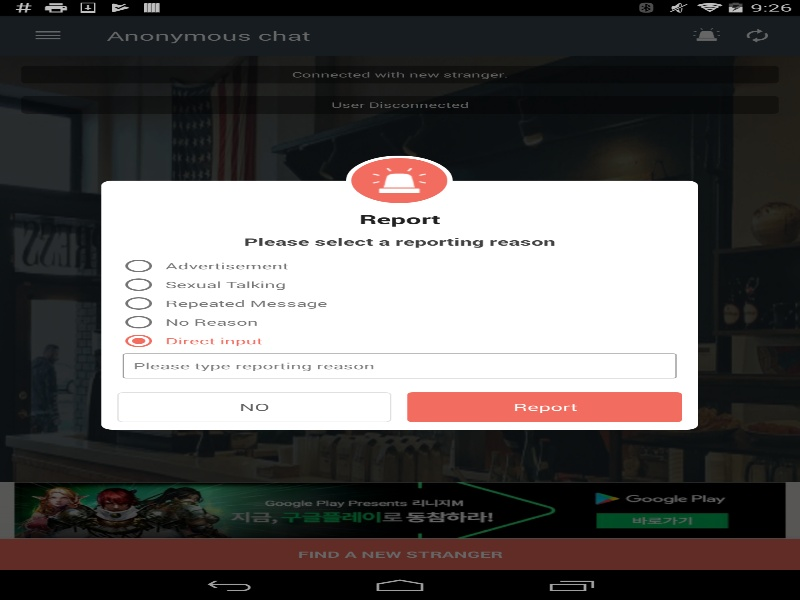Input: (122, 353, 676, 378)
